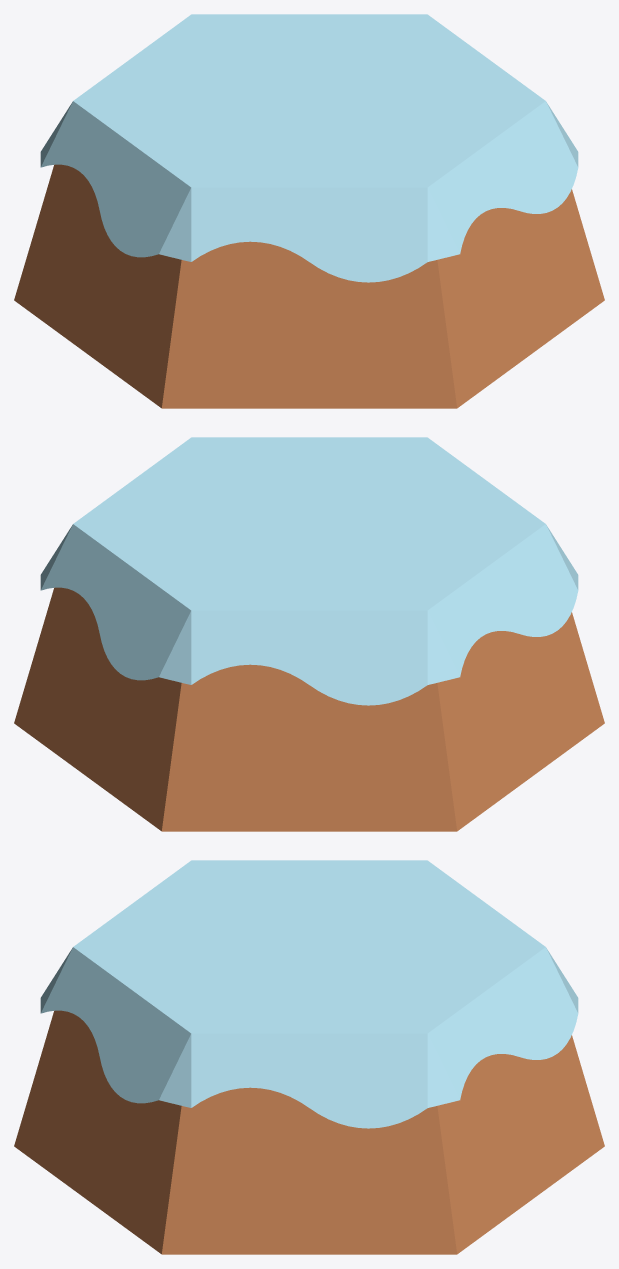
The model's file is blockSnowHexagonLow.fbx.
3 renders of one model, top to bottom at view 1: azimuth 30°, elevation 25°; view 2: azimuth 150°, elevation 25°; view 3: azimuth 270°, elevation 25°, orthographic.
Visible parts, largest first — view 1: blockSnowHexagonLow; view 2: blockSnowHexagonLow; view 3: blockSnowHexagonLow.
Part boxes in pixels (bbox=[...]): blockSnowHexagonLow: bbox=[14, 14, 604, 408]; blockSnowHexagonLow: bbox=[14, 437, 604, 831]; blockSnowHexagonLow: bbox=[14, 860, 604, 1254].
Bounding box in the file's own units: 10 × 4.3 × 11.55.
